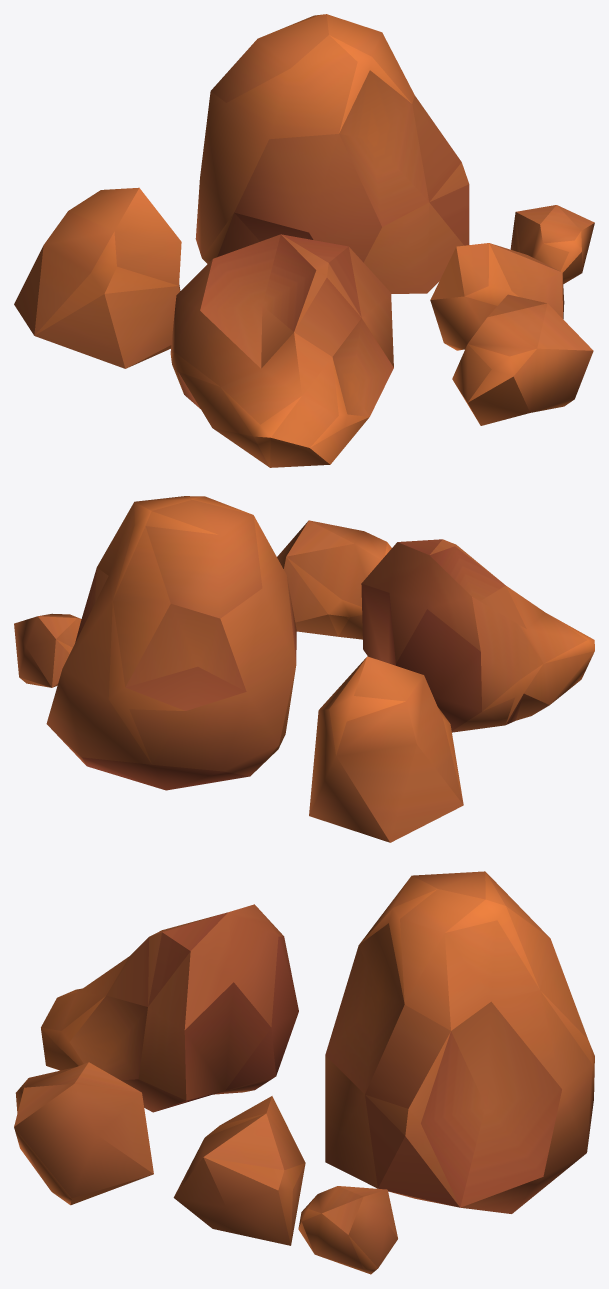
The model's file is copper_nuggets.glb.
3 renders of one model, top to bottom at view 1: azimuth 30°, elevation 25°; view 2: azimuth 150°, elevation 25°; view 3: azimuth 270°, elevation 25°, orthographic. The views are drawn at different scales.
Visible parts, largest first — view 1: Copper_Nuggets; view 2: Copper_Nuggets; view 3: Copper_Nuggets.
Part boxes in pixels (x1,y1,x2,y2): Copper_Nuggets: [14, 14, 594, 467]; Copper_Nuggets: [14, 496, 594, 842]; Copper_Nuggets: [14, 871, 594, 1274].
Size of the model in its own units: 0.9288 by 0.4749 by 0.8501.
Materials: 1 (1 with a texture image).
